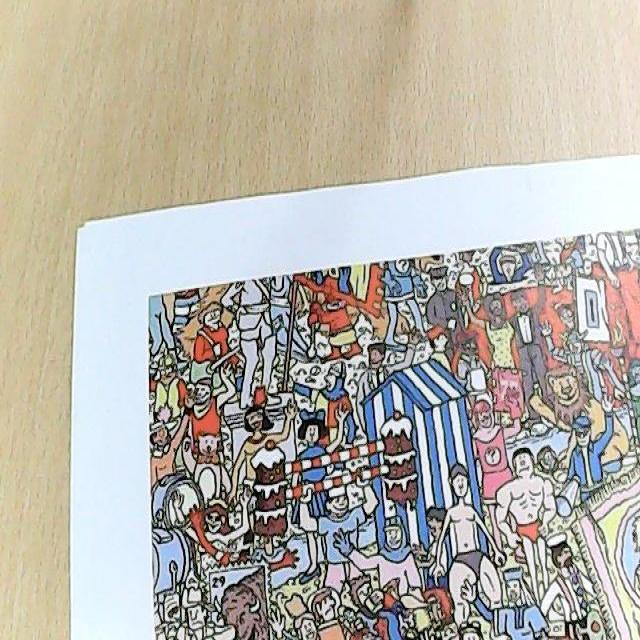waldo: (552, 298, 580, 330)
